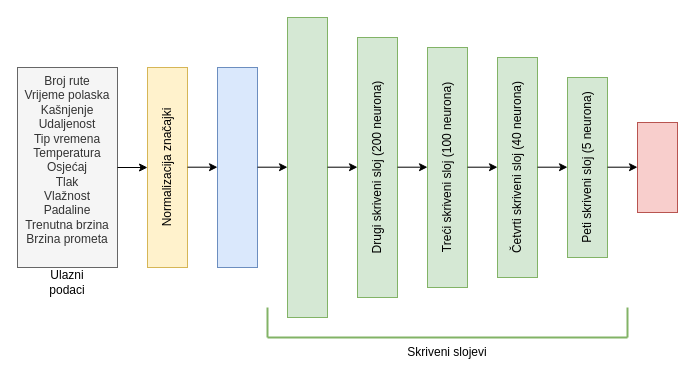
Image size: 695x385. Some labels were removed from this diagram. Here are the shapes that lost their labels. From the top down, the centre of each, then its label:
At (237,167): "Ulazni sloj".
At (307,167): "Prvi skriveni sloj (320 neurona)".
At (657,167): "Izlazni sloj".
